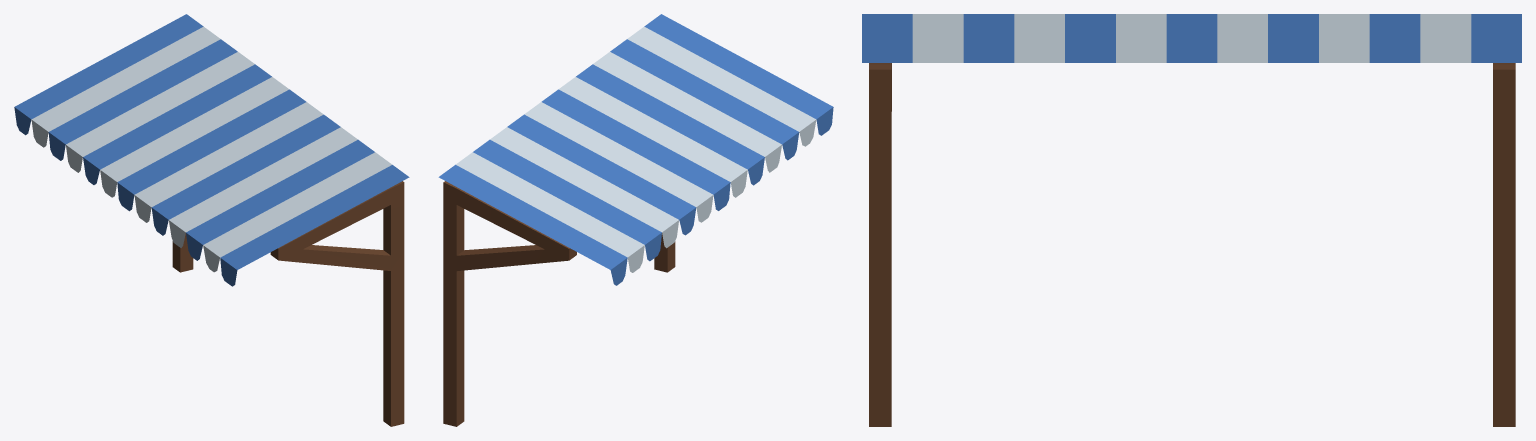
File: Market_Frame.fbx
The picture shows the model from 3 angles, left to right: view 1: azimuth 30°, elevation 25°; view 2: azimuth 150°, elevation 25°; view 3: azimuth 270°, elevation 25°; orthographic projection. The views are drawn at different scales.
Visible parts, largest first — view 1: Market_Frame; view 2: Market_Frame; view 3: Market_Frame.
Part boxes in pixels (x1,y1,x2,y2): Market_Frame: (14, 14, 409, 426); Market_Frame: (438, 14, 833, 426); Market_Frame: (862, 14, 1521, 426).
Bounding box in the file's own units: 1.42 × 1.95 × 3.18.
Materials: 1 (1 with a texture image).
